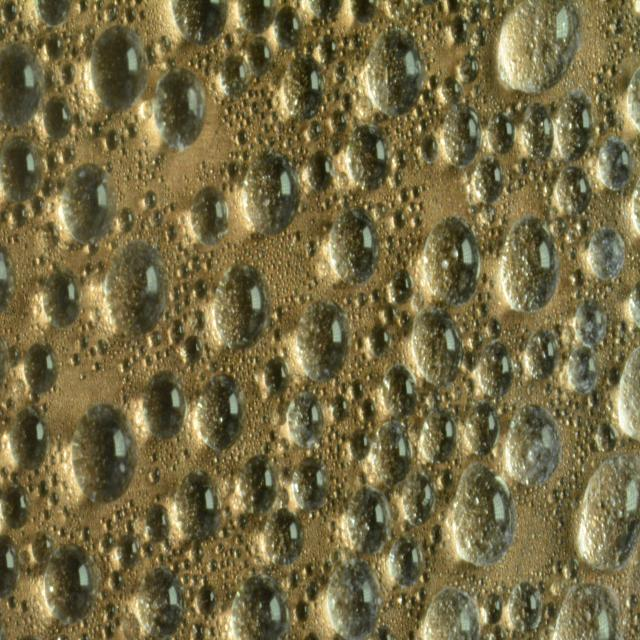dr: (496, 0, 582, 95), (575, 453, 640, 573), (72, 402, 139, 506), (453, 462, 515, 568), (104, 240, 169, 340), (499, 211, 562, 313), (363, 25, 427, 118), (422, 215, 482, 309), (90, 23, 150, 113), (242, 148, 302, 238), (214, 263, 270, 351), (506, 400, 562, 488), (326, 555, 383, 640), (152, 64, 208, 149), (63, 160, 119, 245), (410, 304, 464, 388), (296, 299, 350, 381), (230, 571, 292, 640), (41, 542, 94, 622), (330, 205, 381, 288), (195, 372, 246, 453), (553, 581, 619, 640), (176, 466, 223, 548), (0, 42, 45, 127), (137, 566, 185, 640), (142, 369, 188, 443), (345, 485, 391, 557), (422, 586, 479, 640), (554, 89, 596, 161), (1, 135, 44, 204), (348, 121, 391, 190), (282, 52, 325, 120), (170, 0, 230, 47), (442, 100, 482, 170), (372, 419, 413, 485), (238, 454, 280, 516), (418, 406, 461, 466), (9, 408, 49, 472), (42, 266, 82, 329), (264, 506, 304, 568), (586, 223, 626, 284), (616, 347, 640, 446), (190, 187, 230, 243), (285, 390, 324, 447), (382, 362, 420, 420), (478, 339, 514, 400), (463, 398, 500, 456), (595, 136, 632, 193), (23, 340, 60, 395), (556, 163, 593, 218), (522, 102, 556, 158), (388, 535, 423, 589), (574, 296, 610, 348), (293, 455, 327, 509), (524, 327, 558, 381), (403, 471, 435, 528), (474, 156, 508, 207), (509, 581, 542, 633), (566, 346, 600, 396), (219, 54, 253, 102), (0, 484, 31, 532), (238, 0, 278, 36), (1, 533, 22, 601), (486, 109, 516, 156), (275, 4, 304, 51), (42, 96, 72, 140), (308, 148, 335, 194), (262, 355, 290, 397), (145, 500, 172, 542), (114, 530, 140, 570), (34, 0, 72, 27), (367, 323, 393, 361), (388, 268, 413, 307), (593, 419, 618, 457), (182, 334, 206, 370), (350, 426, 370, 463), (350, 2, 382, 25), (196, 582, 217, 616), (459, 52, 481, 84), (440, 74, 463, 104), (39, 219, 60, 250), (420, 131, 438, 167), (451, 14, 470, 46), (331, 393, 348, 424), (330, 110, 348, 138)
